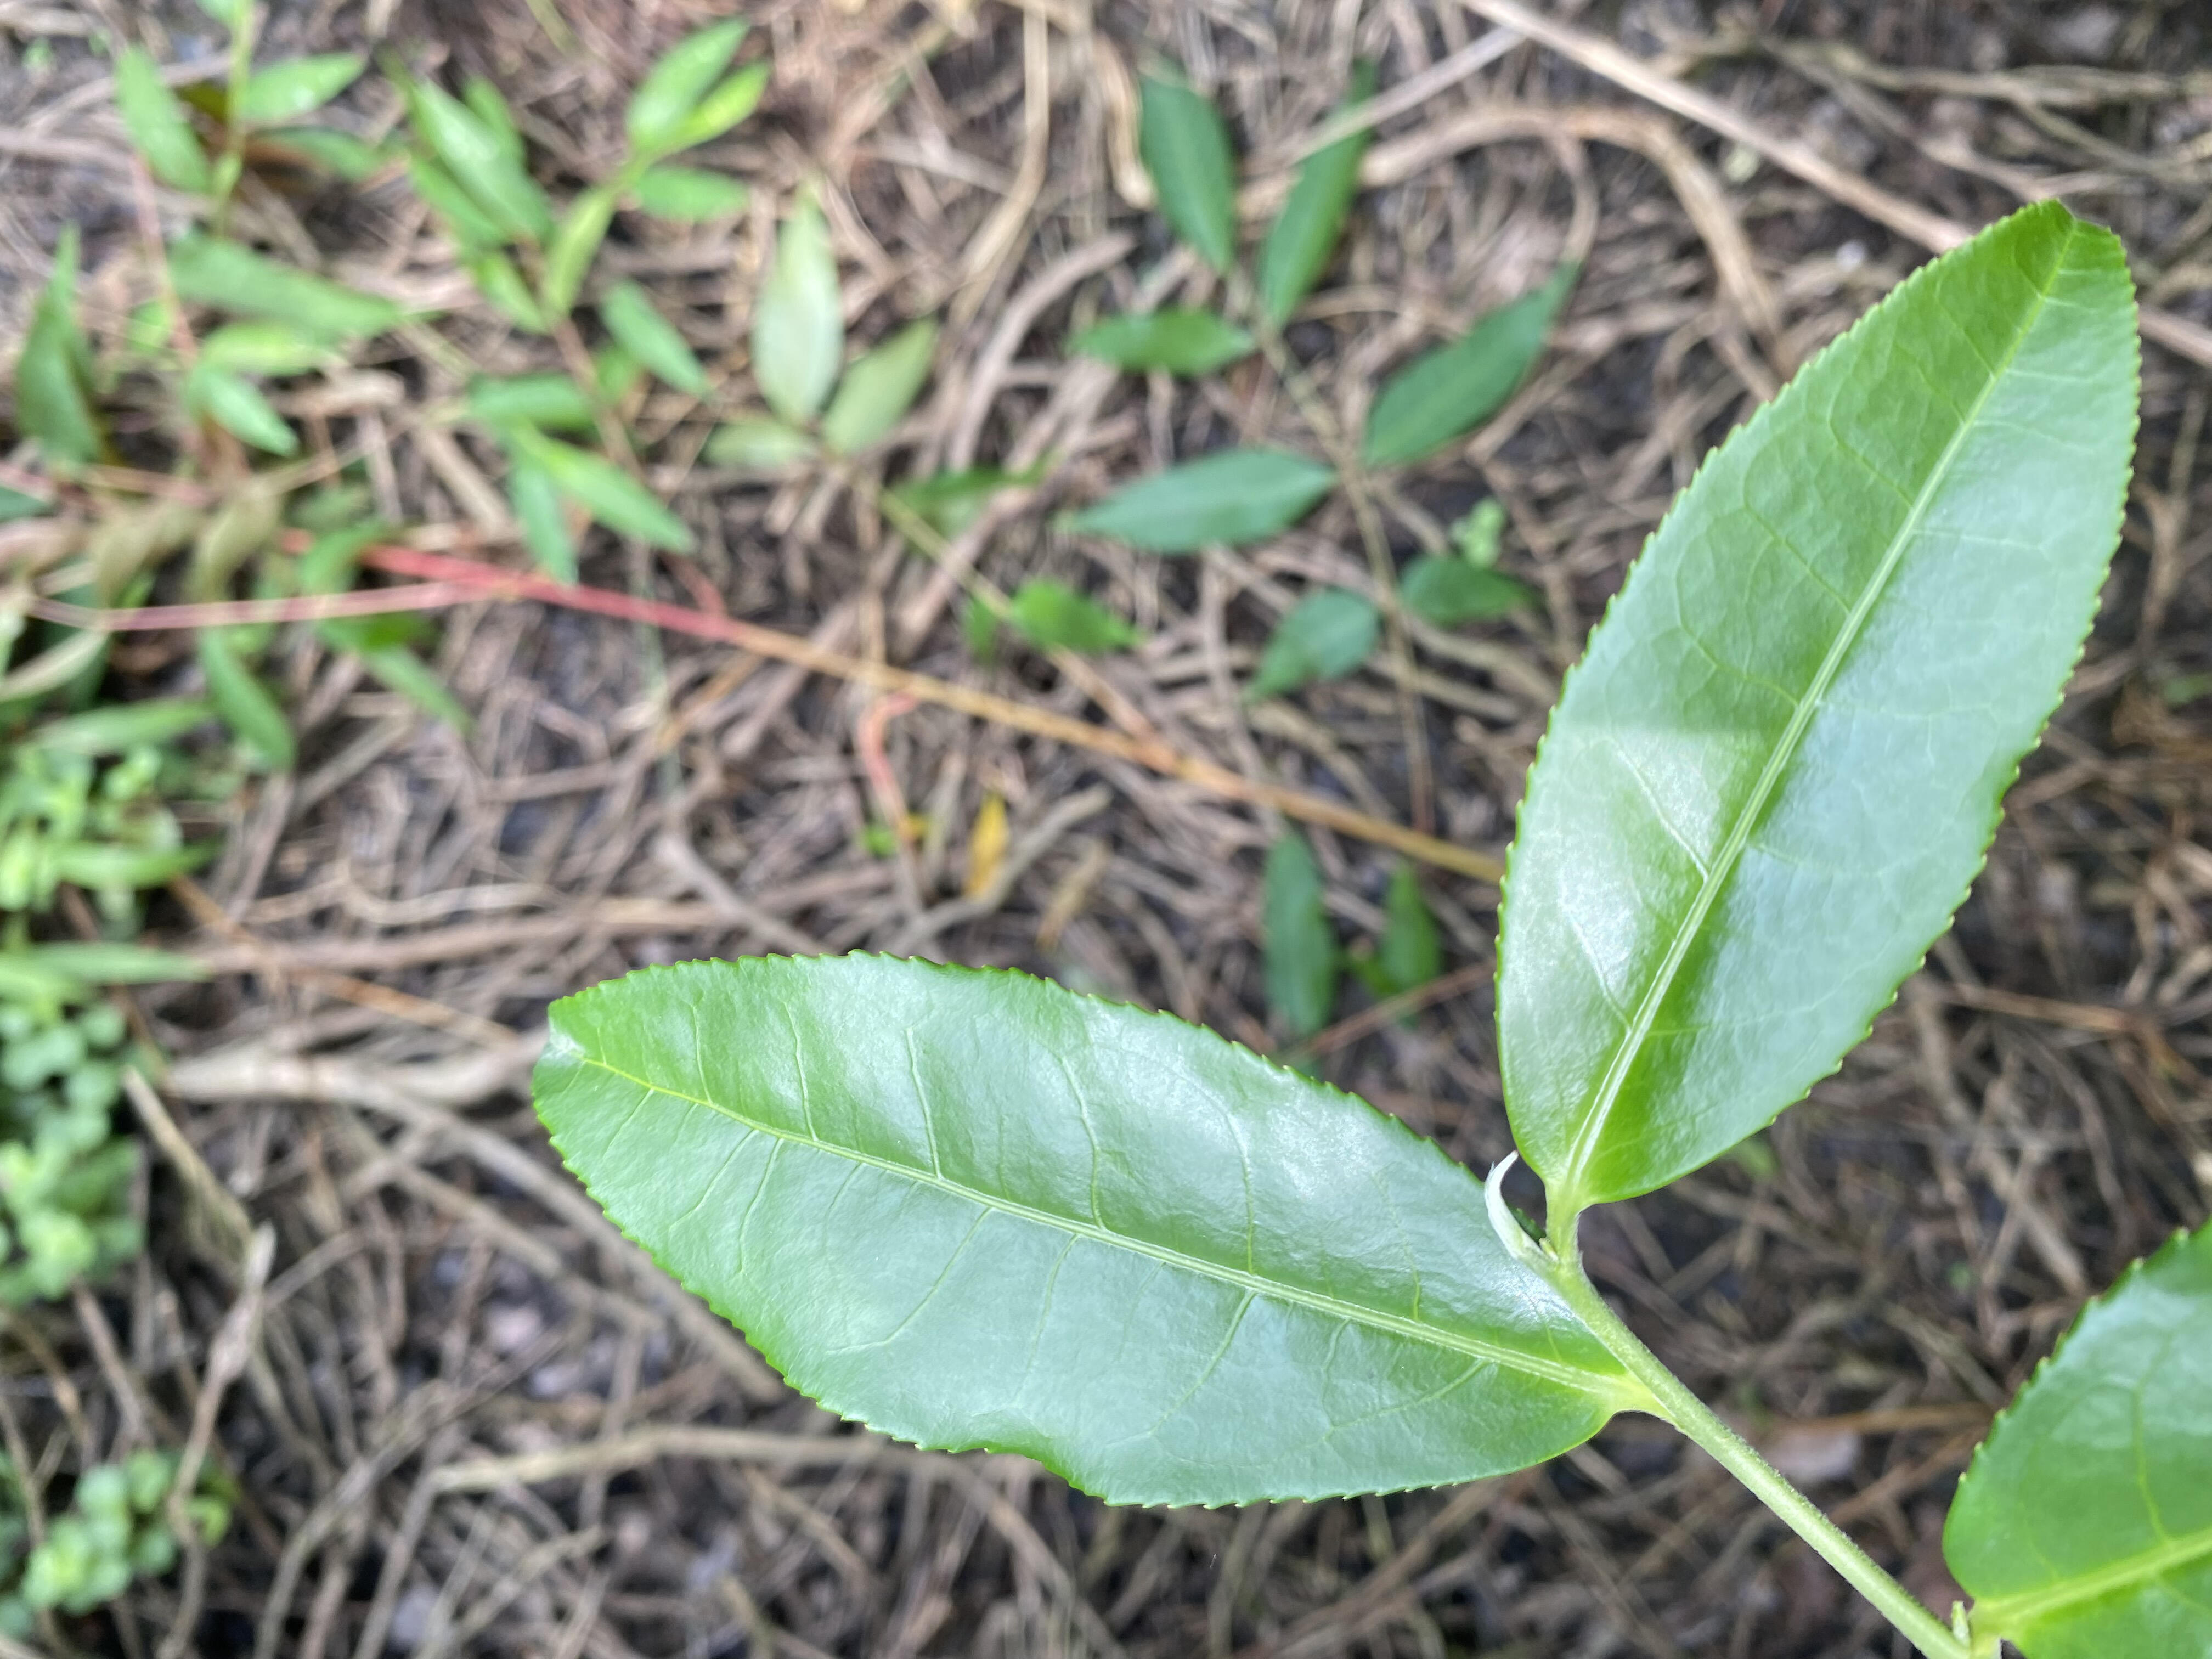healthy: (1493, 197, 2144, 1201), (524, 948, 1622, 1514)
